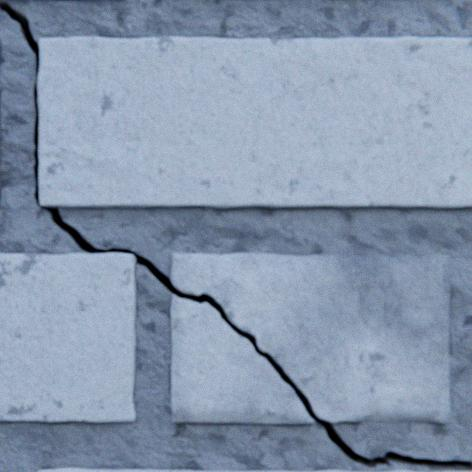brick: (38, 38, 471, 208), (0, 253, 135, 421), (38, 467, 359, 471), (0, 147, 2, 206), (367, 469, 418, 471), (0, 88, 1, 139), (431, 470, 471, 471), (0, 40, 1, 75)
broken_brick: (171, 253, 448, 422), (171, 294, 313, 422)
crack: (0, 1, 471, 470)
